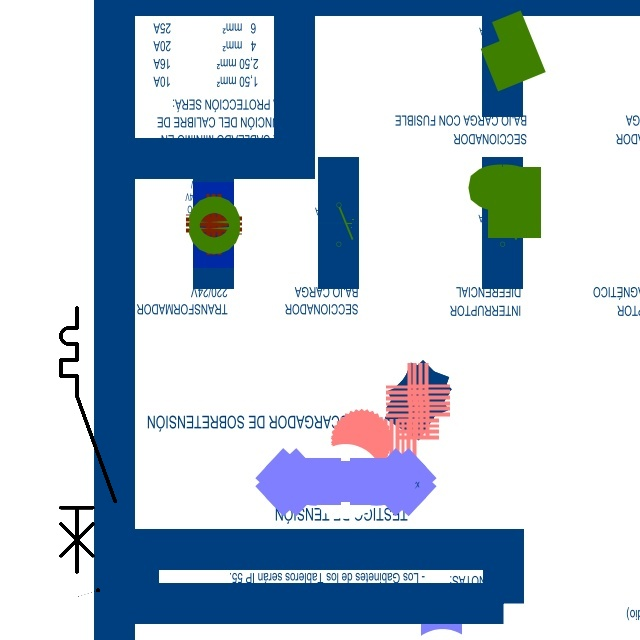interruptor_termomagnetico: (54, 301, 122, 579)
